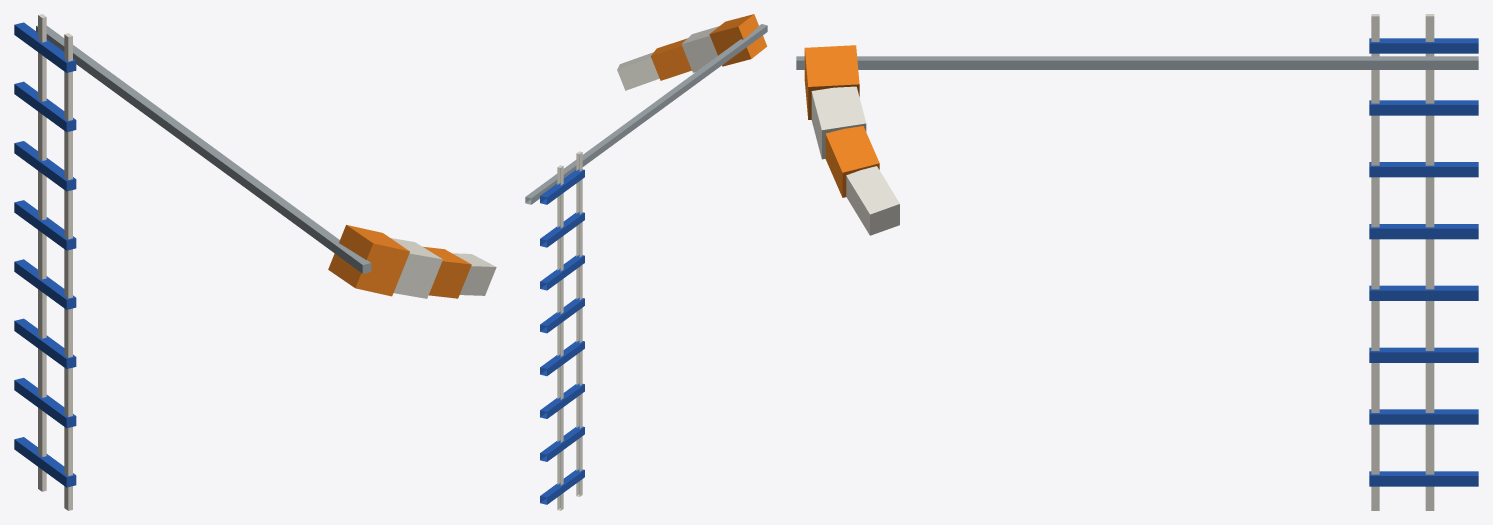
File: frame_3.glb
The picture shows the model from 3 angles, left to right: view 1: azimuth 30°, elevation 25°; view 2: azimuth 150°, elevation 25°; view 3: azimuth 270°, elevation 25°; orthographic projection. The views are drawn at different scales.
Parts seen in each view (by area): view 1: t0_1_g39.003; view 2: t0_1_g39.003; view 3: t0_1_g39.003.
Boxes of the visible parts, <box> form: t0_1_g39.003: <box>14,14,496,510</box>; t0_1_g39.003: <box>525,14,767,510</box>; t0_1_g39.003: <box>796,14,1478,510</box>.
Bounding box in the file's own units: 6.75 × 16 × 20.
